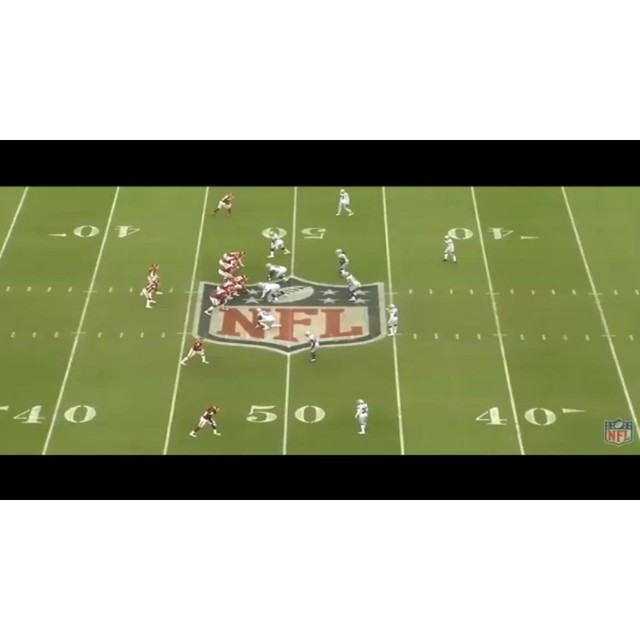american-football-player: (189, 405, 221, 438), (203, 286, 233, 316), (180, 336, 210, 366), (340, 270, 365, 302), (266, 229, 291, 257), (210, 192, 235, 218), (140, 278, 160, 309), (256, 282, 284, 303), (354, 398, 369, 435), (335, 188, 354, 217), (265, 263, 290, 285), (441, 233, 458, 264), (304, 331, 320, 363), (334, 248, 351, 277), (386, 302, 400, 337), (220, 250, 246, 268), (147, 262, 161, 287)
